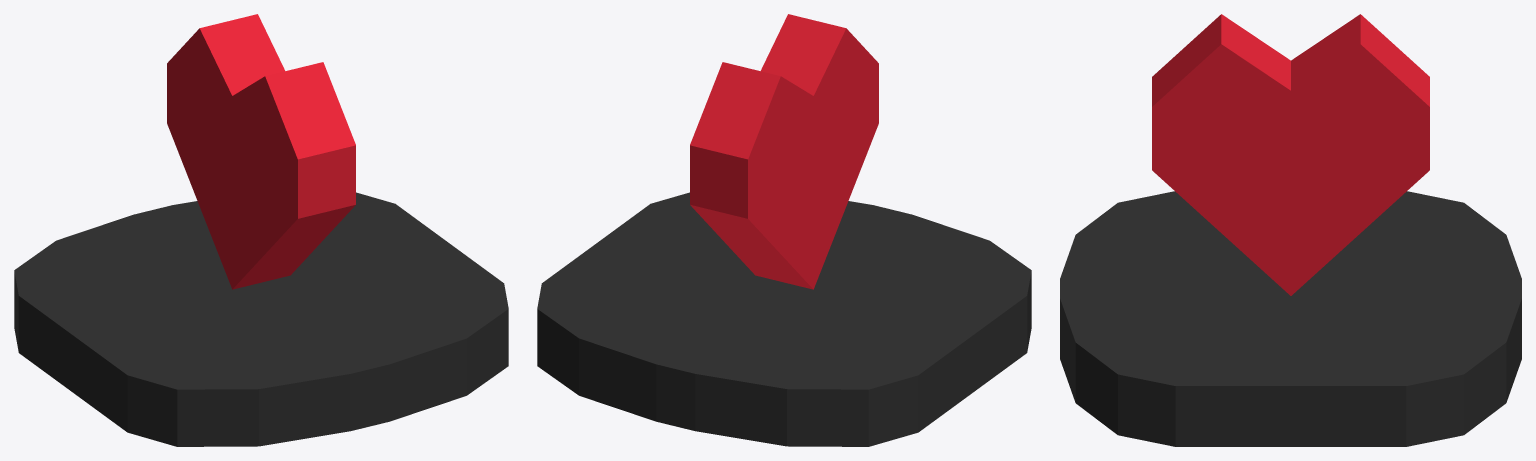
The model's file is ValentinesDayHat.fbx.
The picture shows the model from 3 angles, left to right: view 1: azimuth 30°, elevation 25°; view 2: azimuth 150°, elevation 25°; view 3: azimuth 270°, elevation 25°; orthographic projection. The views are drawn at different scales.
Parts seen in each view (by area): view 1: Cube; view 2: Cube; view 3: Cube.
Boxes of the visible parts, <box> form: Cube: <box>14,14,508,446</box>; Cube: <box>537,14,1031,446</box>; Cube: <box>1060,14,1521,446</box>.
Bounding box in the file's own units: 332 × 254 × 332.
